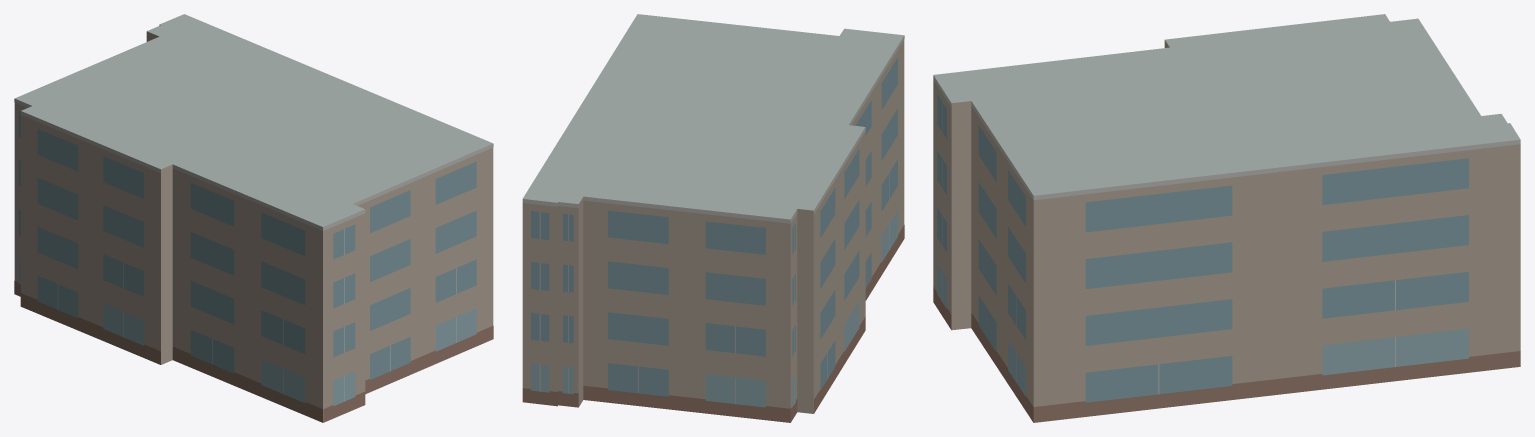
File: survey-upis-32675259.glb
3 renders of one model, left to right at view 1: azimuth 30°, elevation 25°; view 2: azimuth 150°, elevation 25°; view 3: azimuth 270°, elevation 25°, orthographic. The views are drawn at different scales.
Visible parts, largest first — view 1: survey-upis-32675259.tmp; view 2: survey-upis-32675259.tmp; view 3: survey-upis-32675259.tmp.
Part boxes in pixels (left/top/right/bottom): survey-upis-32675259.tmp: left=14, top=14, right=493, bottom=422; survey-upis-32675259.tmp: left=522, top=14, right=904, bottom=422; survey-upis-32675259.tmp: left=933, top=14, right=1520, bottom=422.
Bounding box in the file's own units: 20.96 × 12.2 × 28.61.
